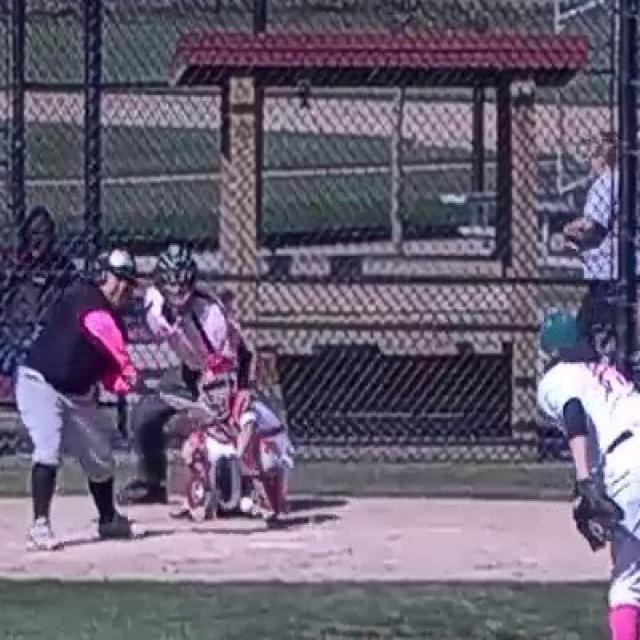baseball: (240, 498, 252, 510)
